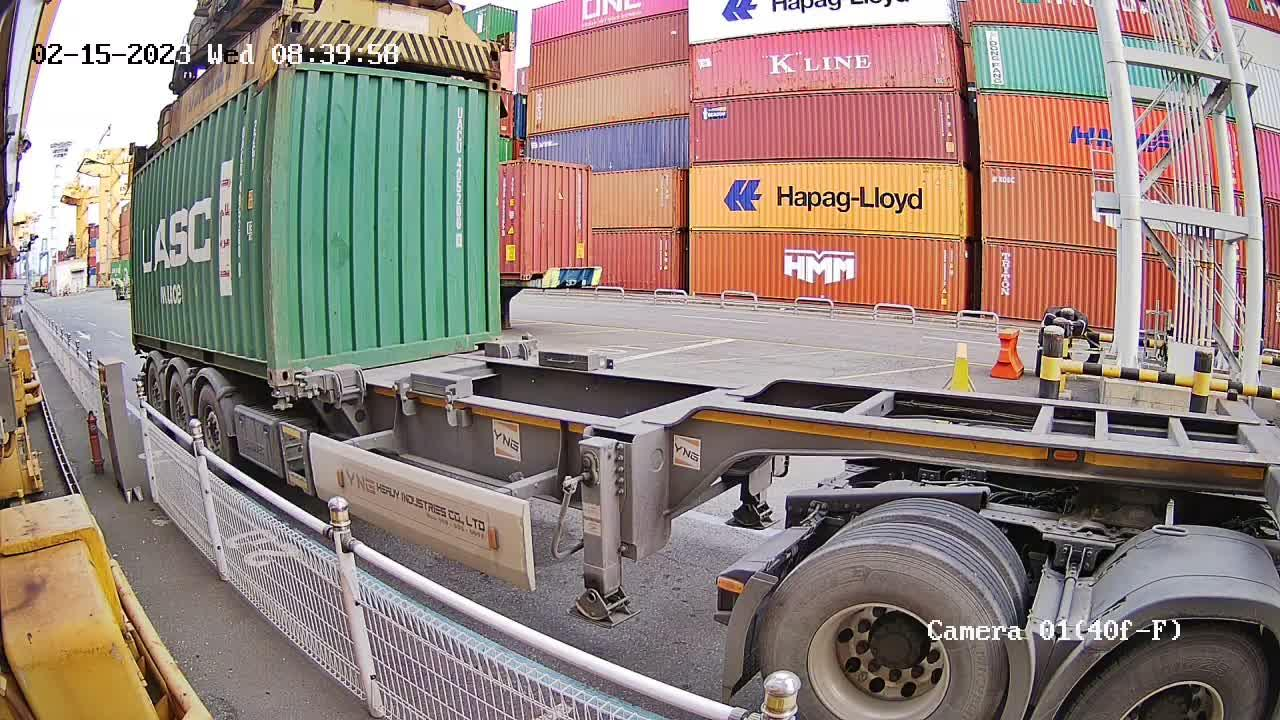Cone: (269, 387, 292, 412)
Hole_L: (276, 332, 323, 384)
Hole_R: (240, 331, 279, 387), (463, 311, 501, 350)
Tire: (753, 545, 1007, 717), (1063, 641, 1266, 718), (195, 388, 226, 451), (167, 375, 192, 427), (146, 366, 164, 409)
